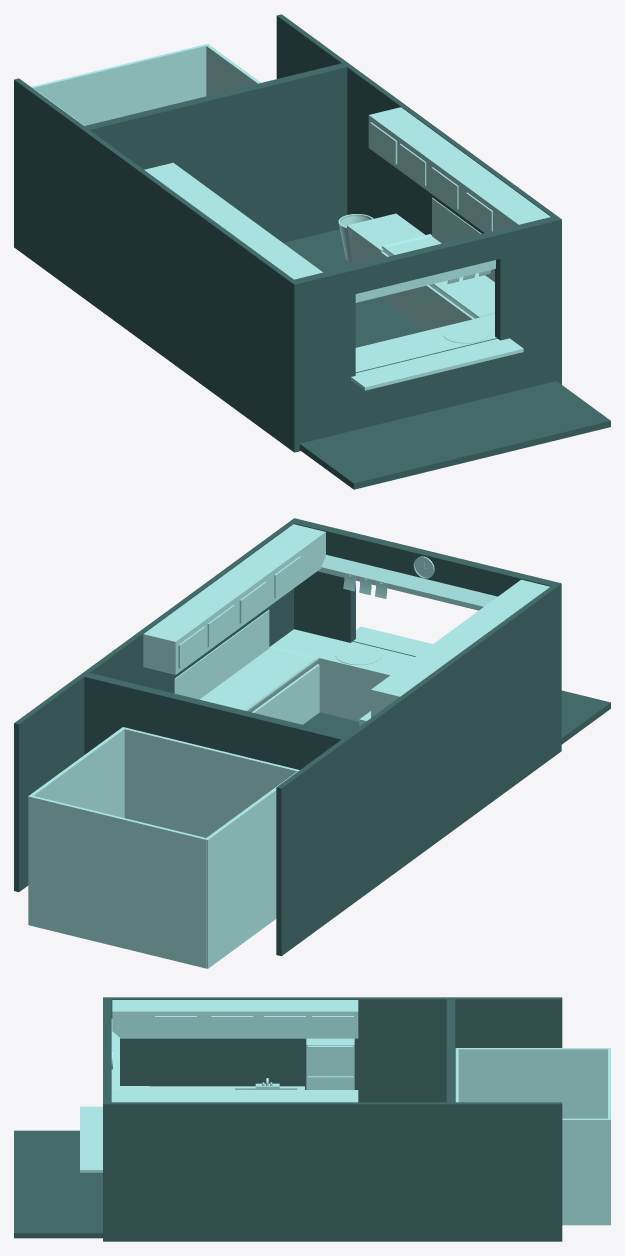
The model's file is Base_EnvironmentModel.fbx.
3 views of the same model, one above another, from view 1: azimuth 30°, elevation 25°; view 2: azimuth 150°, elevation 25°; view 3: azimuth 270°, elevation 25° (orthographic). The views are drawn at different scales.
Parts seen in each view (by area): view 1: Walls, Floor, MockFront, Cupboard2, Stove, Cupboard, Front_OutsideTable, FrontCounter, Refridge2, Shutter, Order_Trigger, NonOpen_Cabinet_4 (+3 smaller); view 2: Walls, MockFront, Stove, Cupboard2, FrontCounter, Cupboard, Shutter, Floor, Front_OutsideTable, Order_Trigger, NonOpen_Cabinet_4, NonOpen_Cabinet_2 (+2 smaller); view 3: Walls, MockFront, Floor, Cupboard, Cupboard2, Front_OutsideTable, FreezDoor, NonOpen_Cabinet_7, NonOpen_Cabinet_5, NonOpen_Cabinet_6, NonOpen_Cabinet_8, Refridge (+3 smaller).
Boxes of the visible parts, bbox=[...] form: Walls: bbox=[14, 14, 561, 452]; Floor: bbox=[283, 229, 610, 489]; MockFront: bbox=[31, 44, 260, 125]; Cupboard2: bbox=[368, 107, 550, 232]; Stove: bbox=[381, 197, 494, 331]; Cupboard: bbox=[144, 162, 322, 279]; Front_OutsideTable: bbox=[351, 338, 523, 390]; FrontCounter: bbox=[355, 314, 496, 372]; Refridge2: bbox=[347, 213, 425, 265]; Shutter: bbox=[355, 260, 495, 302]; Order_Trigger: bbox=[442, 323, 489, 343]; NonOpen_Cabinet_4: bbox=[370, 122, 397, 164]; Walls: bbox=[14, 518, 561, 956]; MockFront: bbox=[28, 727, 299, 968]; Stove: bbox=[174, 610, 319, 724]; Cupboard2: bbox=[143, 524, 325, 674]; FrontCounter: bbox=[271, 629, 414, 721]; Cupboard: bbox=[371, 579, 549, 717]; Shutter: bbox=[317, 554, 497, 610]; Floor: bbox=[303, 690, 610, 744]; Front_OutsideTable: bbox=[353, 626, 432, 656]; Order_Trigger: bbox=[335, 645, 382, 664]; NonOpen_Cabinet_4: bbox=[178, 626, 205, 668]; NonOpen_Cabinet_2: bbox=[239, 581, 266, 623]; Walls: bbox=[103, 997, 562, 1241]; MockFront: bbox=[455, 1048, 610, 1225]; Floor: bbox=[14, 1130, 102, 1238]; Cupboard: bbox=[112, 1000, 358, 1038]; Cupboard2: bbox=[112, 1090, 358, 1102]; Front_OutsideTable: bbox=[80, 1106, 102, 1172]; FreezDoor: bbox=[308, 1045, 353, 1075]; NonOpen_Cabinet_7: bbox=[211, 1016, 253, 1035]; NonOpen_Cabinet_5: bbox=[312, 1016, 353, 1035]; NonOpen_Cabinet_6: bbox=[264, 1016, 305, 1035]; NonOpen_Cabinet_8: bbox=[155, 1016, 196, 1035]; Refridge: bbox=[306, 1038, 354, 1089].
Size of the model in its own units: 196 by 119 by 463.
